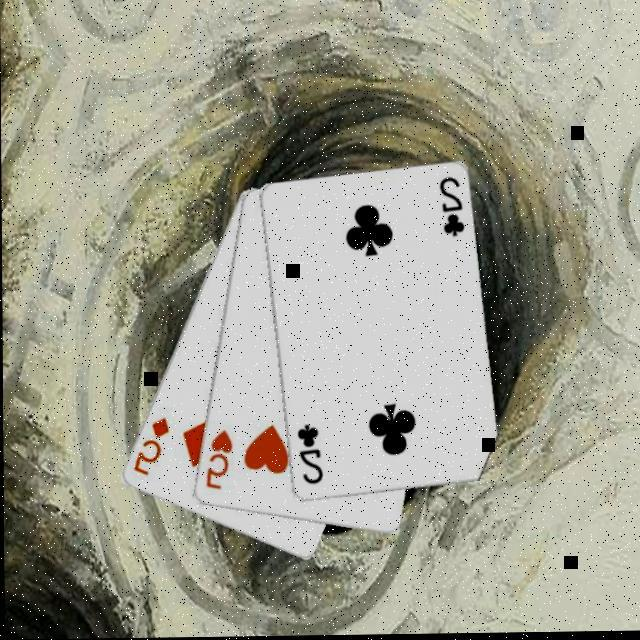2C: (294, 422, 326, 488), (438, 174, 468, 240)
5D: (131, 414, 173, 478)
5H: (202, 427, 235, 493)
